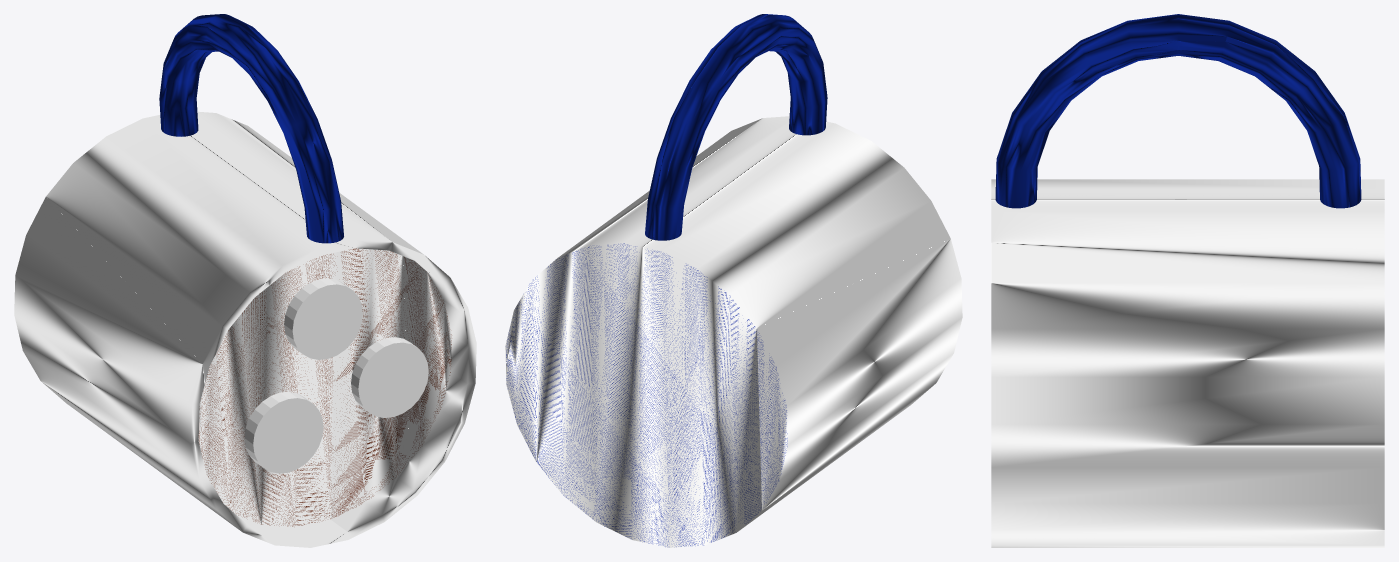
The model's file is model_align.obj.
The picture shows the model from 3 angles, left to right: view 1: azimuth 30°, elevation 25°; view 2: azimuth 150°, elevation 25°; view 3: azimuth 270°, elevation 25°; orthographic projection. The views are drawn at different scales.
Bounding box in the file's own units: 0.0807 × 0.1236 × 0.0862.
